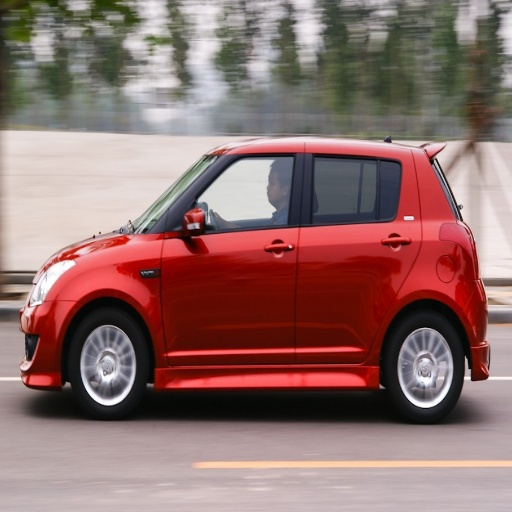front_left_door: (162, 146, 305, 361)
